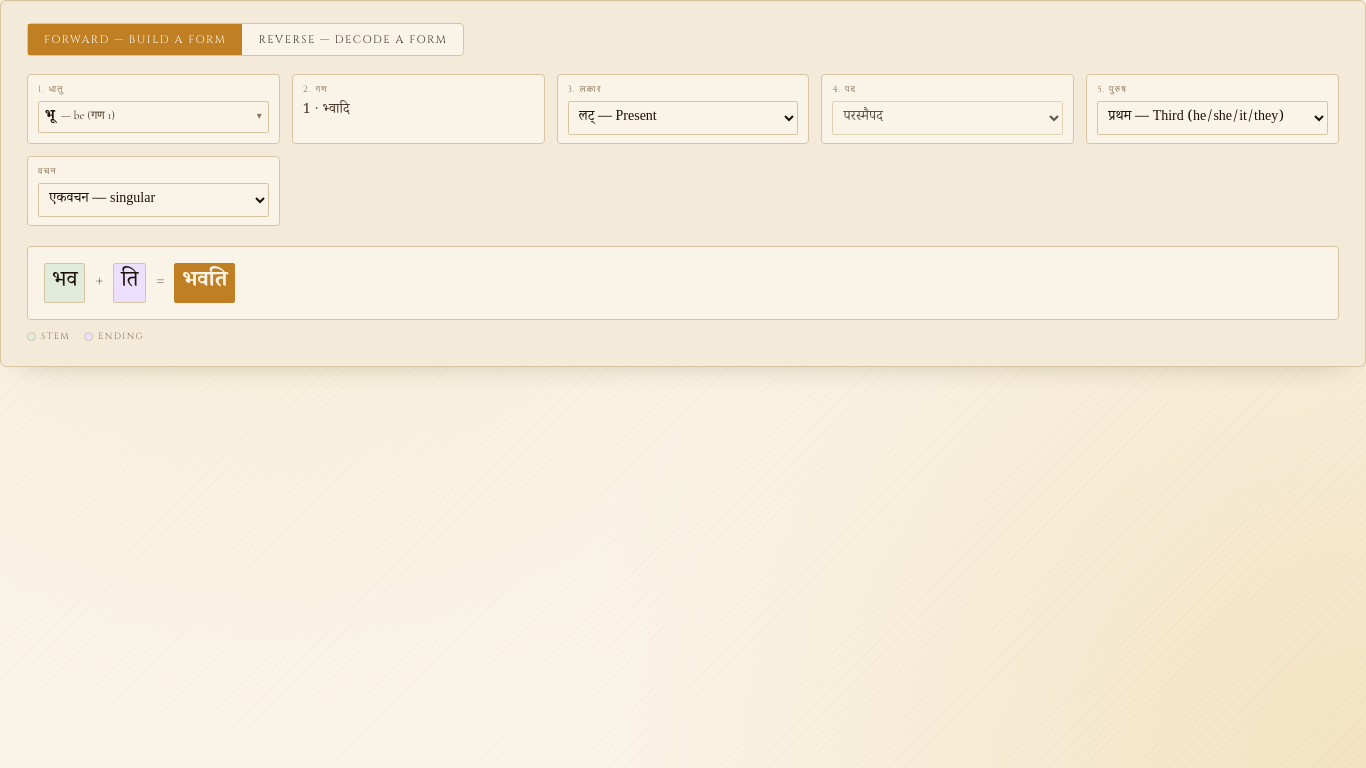
Test case: StackBuilder — Forward mode › changing the dhātu picker updates the resulting form
This screenshot has width=1366, height=768.
Click the button with class "dhatu-combobox-trigger": coordinates (153, 117) [38,101,269,133]
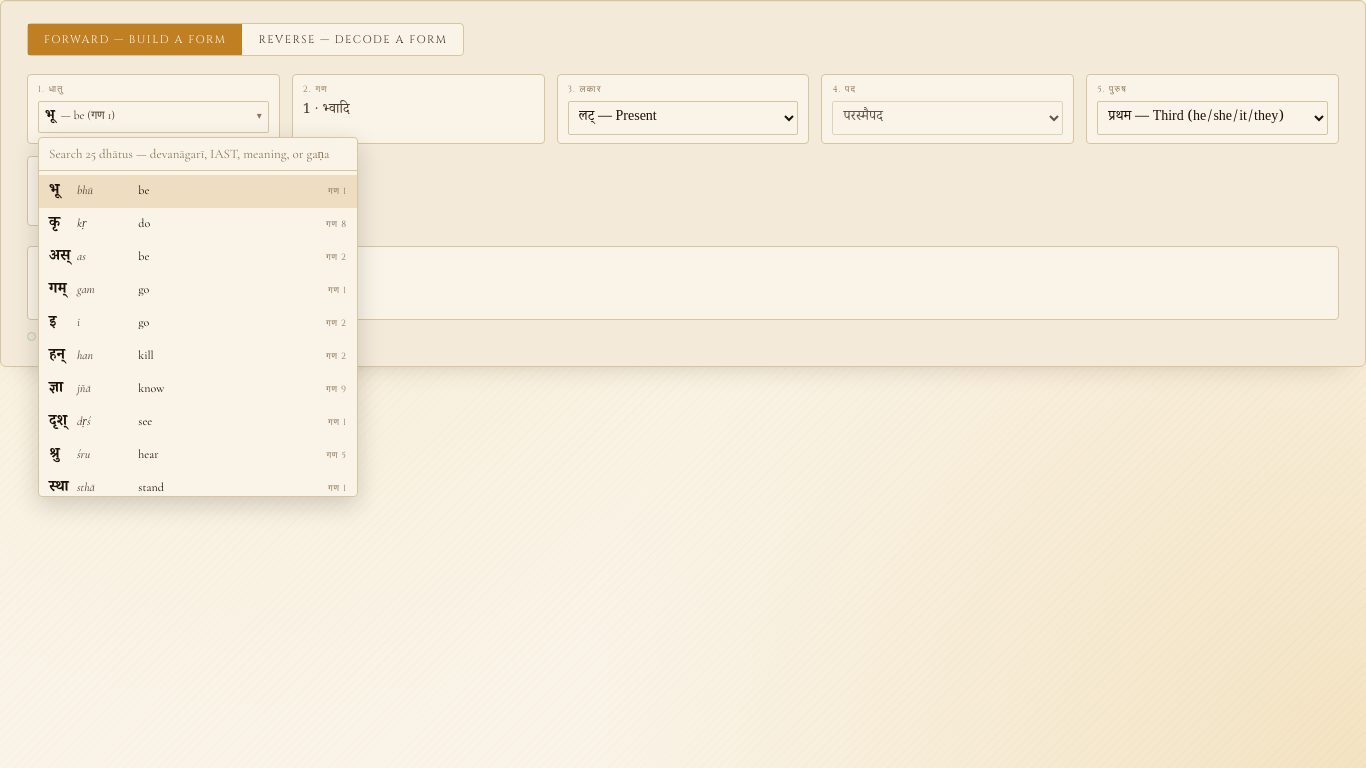
// Type a search query that uniquely matches √कृ.
In the field with class "dhatu-combobox-search": coordinates (198, 154) [39,138,357,171], type "do"
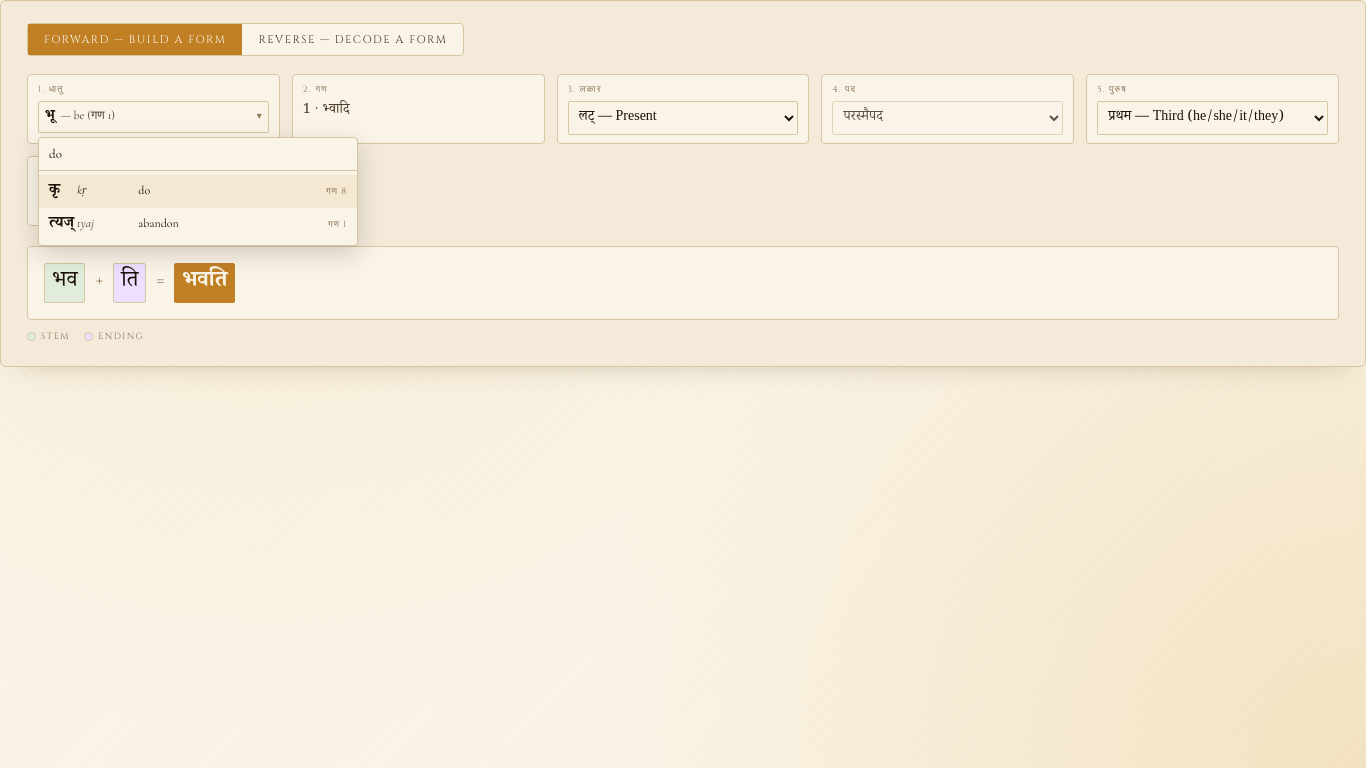
Result: the option with class "dhatu-combobox-row" showing "कृ kṛ do गण 8" is shown
Click the option with class "dhatu-combobox-row" showing "कृ kṛ do गण 8": coordinates (55, 191) [39,175,357,208]
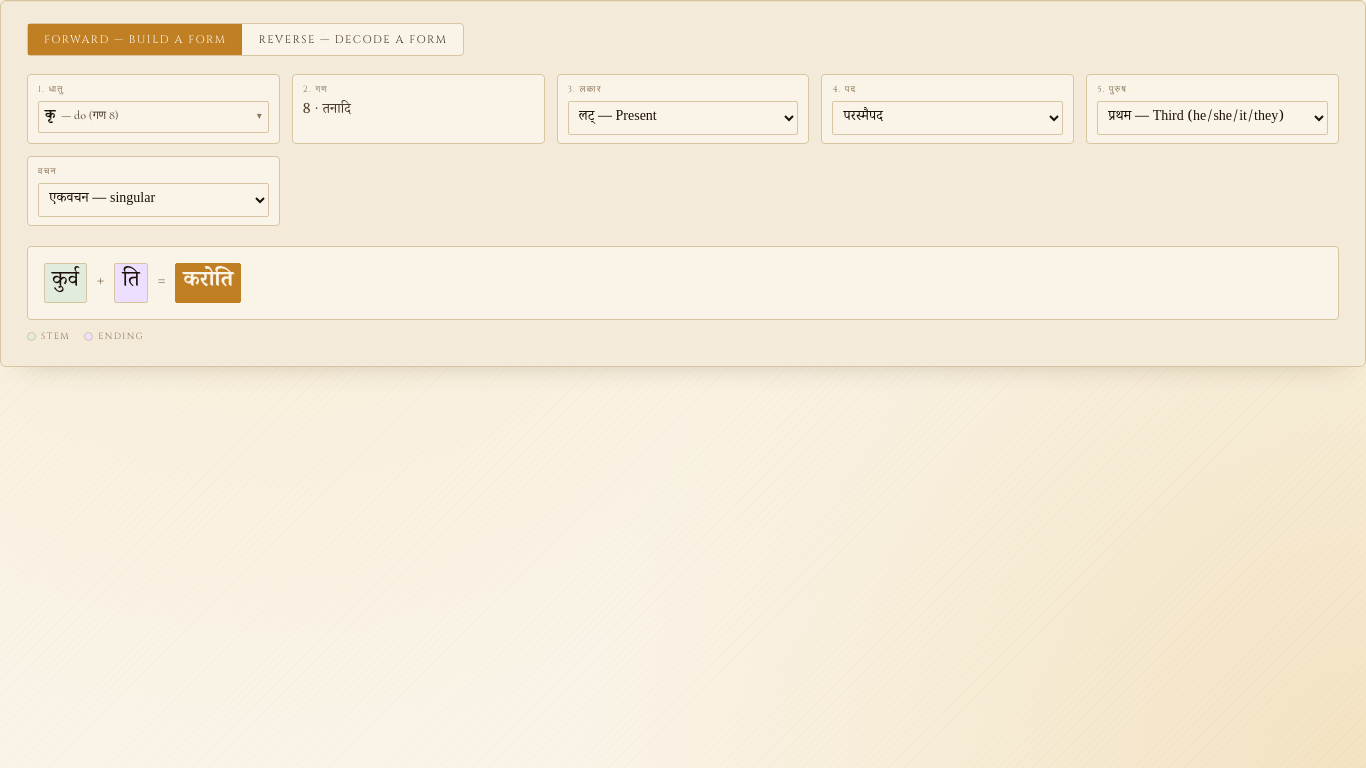
Result: the text with class "formula-result" reads "करोति" at [183,266,233,300]
